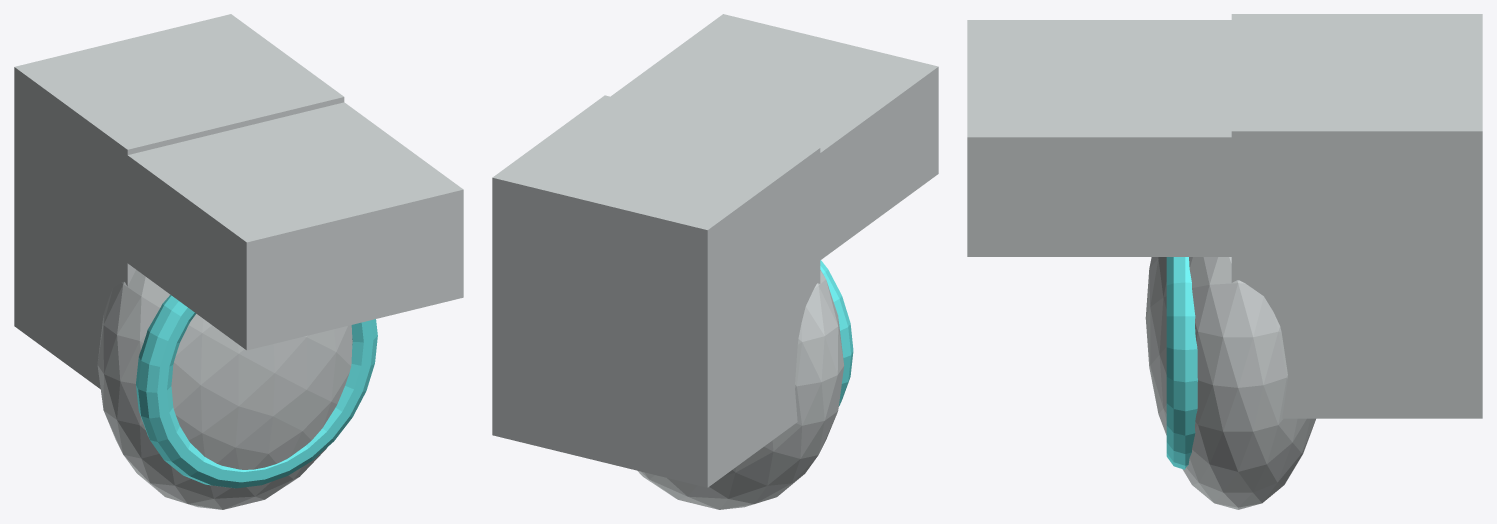
File: toilet.glb
3 views of the same model, side by side, from view 1: azimuth 30°, elevation 25°; view 2: azimuth 150°, elevation 25°; view 3: azimuth 270°, elevation 25° (orthographic). The views are drawn at different scales.
Parts seen in each view (by area): view 1: world; view 2: world; view 3: world.
Part boxes in pixels (box(x1,y1,x2,y2)): world: box(14, 14, 463, 509); world: box(492, 14, 938, 509); world: box(967, 14, 1482, 509).
Size of the model in its own units: 0.5 by 0.71 by 0.78.
